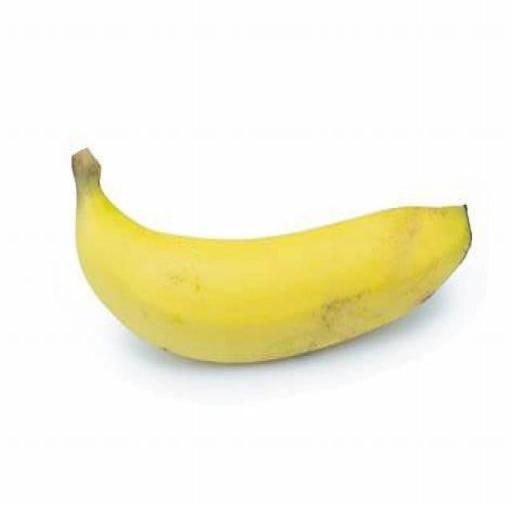fruit: (39, 67, 115, 311)
